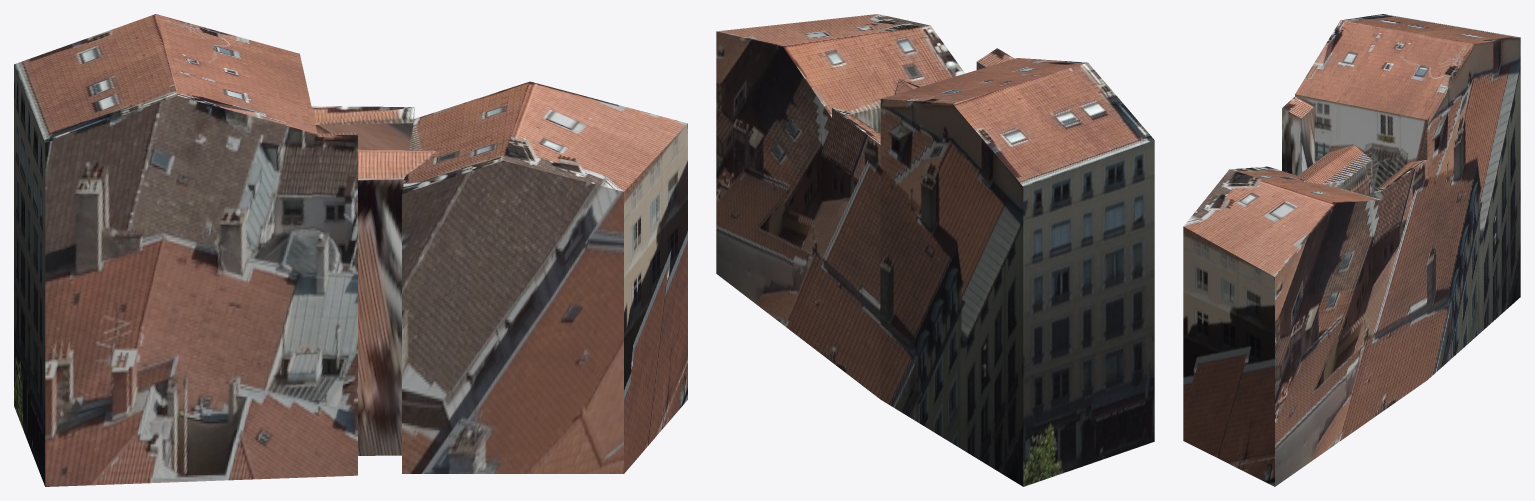
3 renders of one model, left to right at view 1: azimuth 30°, elevation 25°; view 2: azimuth 150°, elevation 25°; view 3: azimuth 270°, elevation 25°, orthographic. The views are drawn at different scales.
Visible parts, largest first — view 1: Z_UP; view 2: Z_UP; view 3: Z_UP.
Part boxes in pixels (x1,y1,x2,y2): Z_UP: (14, 14, 687, 486); Z_UP: (716, 14, 1154, 486); Z_UP: (1183, 14, 1520, 486).
Size of the model in its own units: 37.38 by 24.23 by 25.14.
2 materials, 1 textured.
